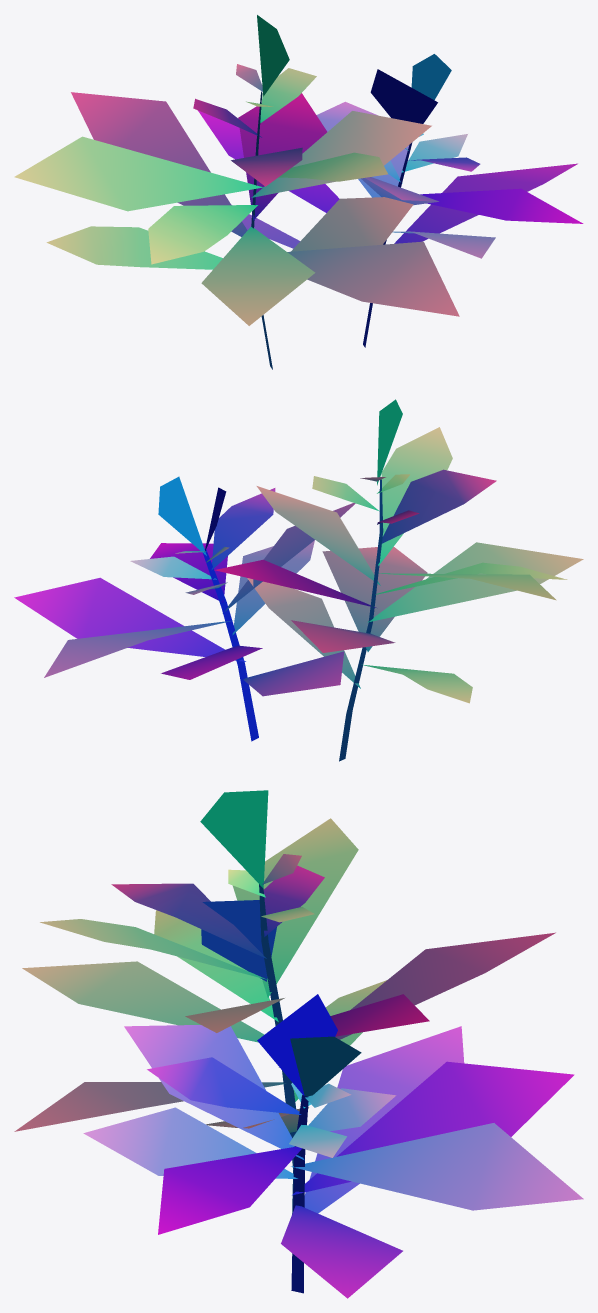
Rendered from xefmcgrqx_VarE_LOD2.fbx.
3 views of the same model, one above another, from view 1: azimuth 30°, elevation 25°; view 2: azimuth 150°, elevation 25°; view 3: azimuth 270°, elevation 25° (orthographic). The views are drawn at different scales.
Visible parts, largest first — view 1: _zqrf_VarE_LOD5; view 2: _zqrf_VarE_LOD5; view 3: _zqrf_VarE_LOD5.
Boxes of the visible parts, x1=… form: _zqrf_VarE_LOD5: x1=14, y1=15, x2=583, y2=369; _zqrf_VarE_LOD5: x1=14, y1=399, x2=583, y2=761; _zqrf_VarE_LOD5: x1=14, y1=790, x2=583, y2=1298.
Bounding box in the file's own units: 66.67 × 41.28 × 49.14.
